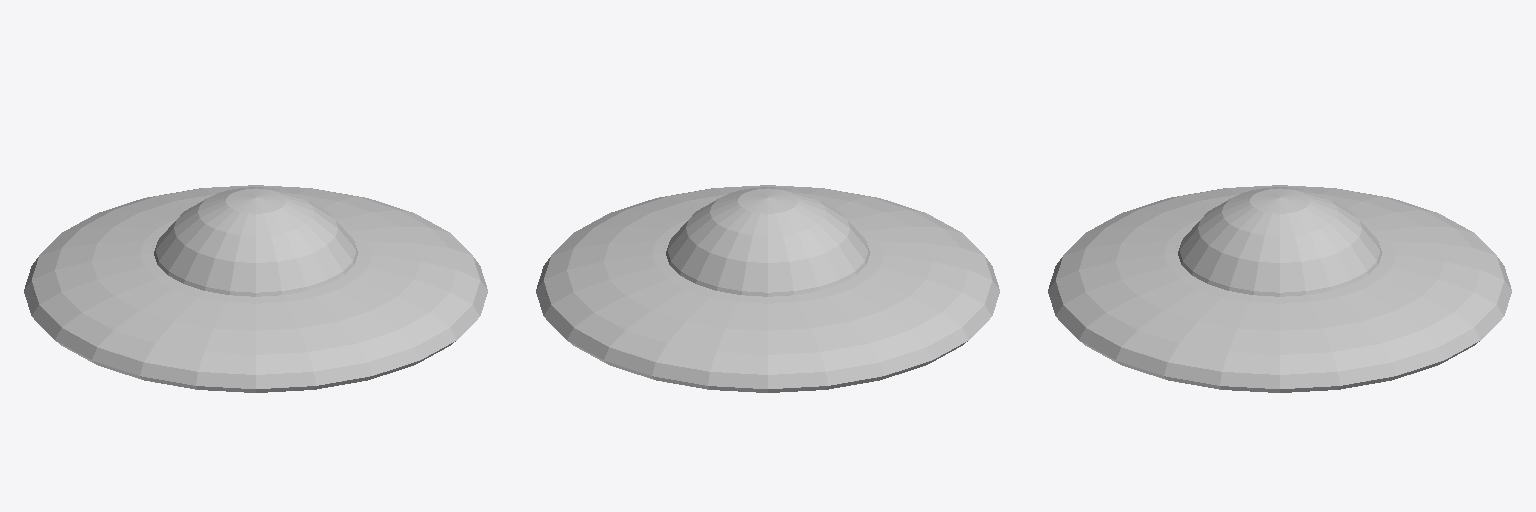
The model's file is ufo.obj.
3 views of the same model, side by side, from view 1: azimuth 30°, elevation 25°; view 2: azimuth 150°, elevation 25°; view 3: azimuth 270°, elevation 25° (orthographic).
Parts seen in each view (by area): view 1: Ufo; view 2: Ufo; view 3: Ufo.
Part boxes in pixels (bbox=[...]): Ufo: bbox=[24, 185, 487, 392]; Ufo: bbox=[536, 185, 999, 392]; Ufo: bbox=[1048, 185, 1511, 392].
Bounding box in the file's own units: 40 × 11.11 × 40.